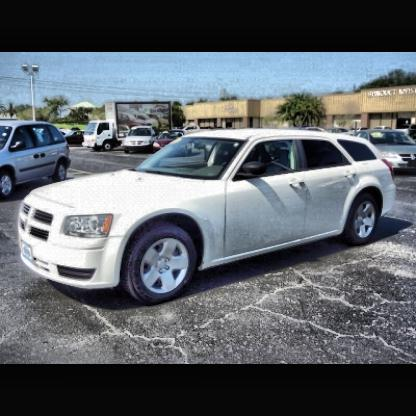Dodge Magnum Wagon 2008: (19, 126, 400, 312)
